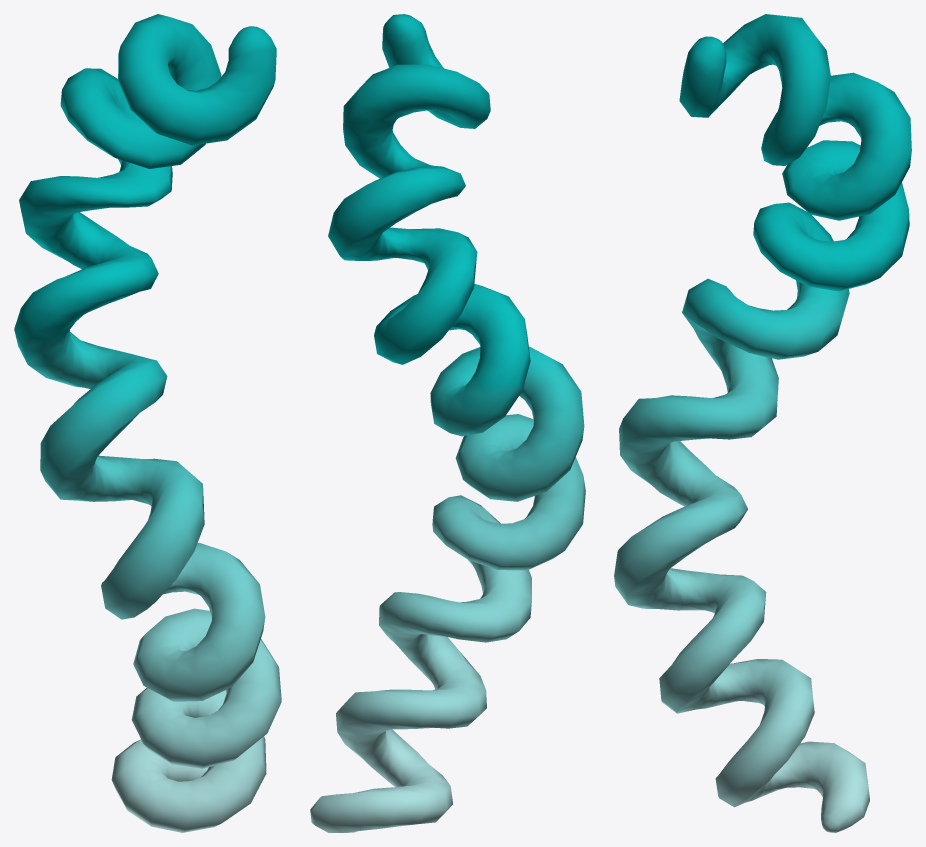
The model's file is Capsule_contents_001.fbx.
The picture shows the model from 3 angles, left to right: view 1: azimuth 30°, elevation 25°; view 2: azimuth 150°, elevation 25°; view 3: azimuth 270°, elevation 25°; orthographic projection. The views are drawn at different scales.
Visible parts, largest first — view 1: Сapsule_contents_001; view 2: Сapsule_contents_001; view 3: Сapsule_contents_001.
Part boxes in pixels (x1,y1,x2,y2): Сapsule_contents_001: (14,14,281,832); Сapsule_contents_001: (310,14,585,832); Сapsule_contents_001: (614,14,911,832).
Bounding box in the file's own units: 38.84 × 44.17 × 129.
